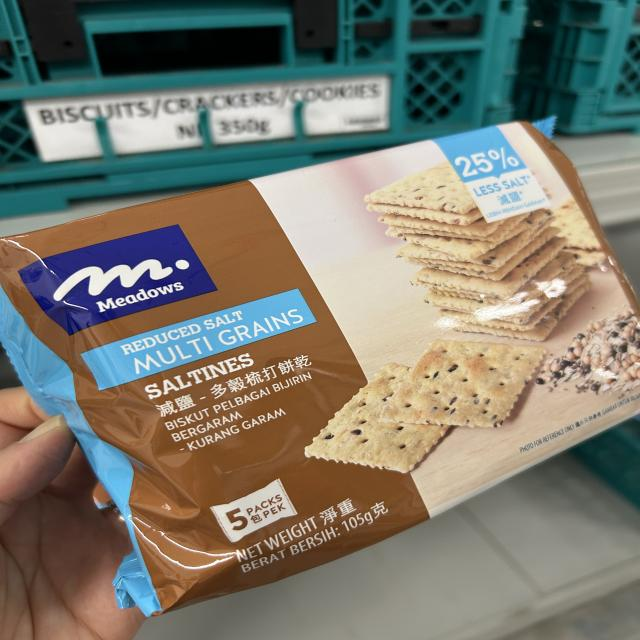object_name: (54, 239, 608, 550)
